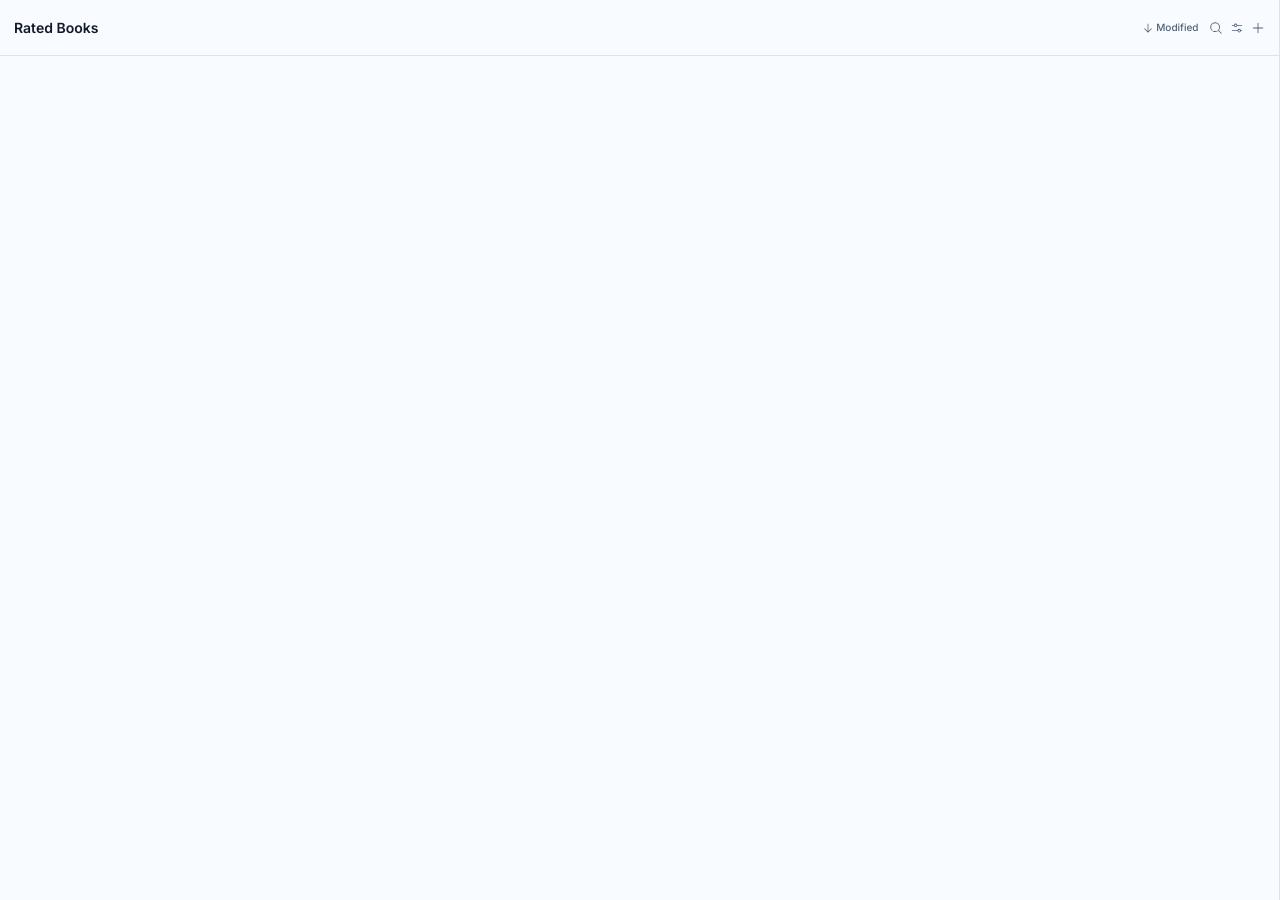
Test: NoteList sort controls › loads view sort properties from the current view results only
Click the button with test id "sort-button-__list__" at (1170, 28), box [1139,18,1202,37]
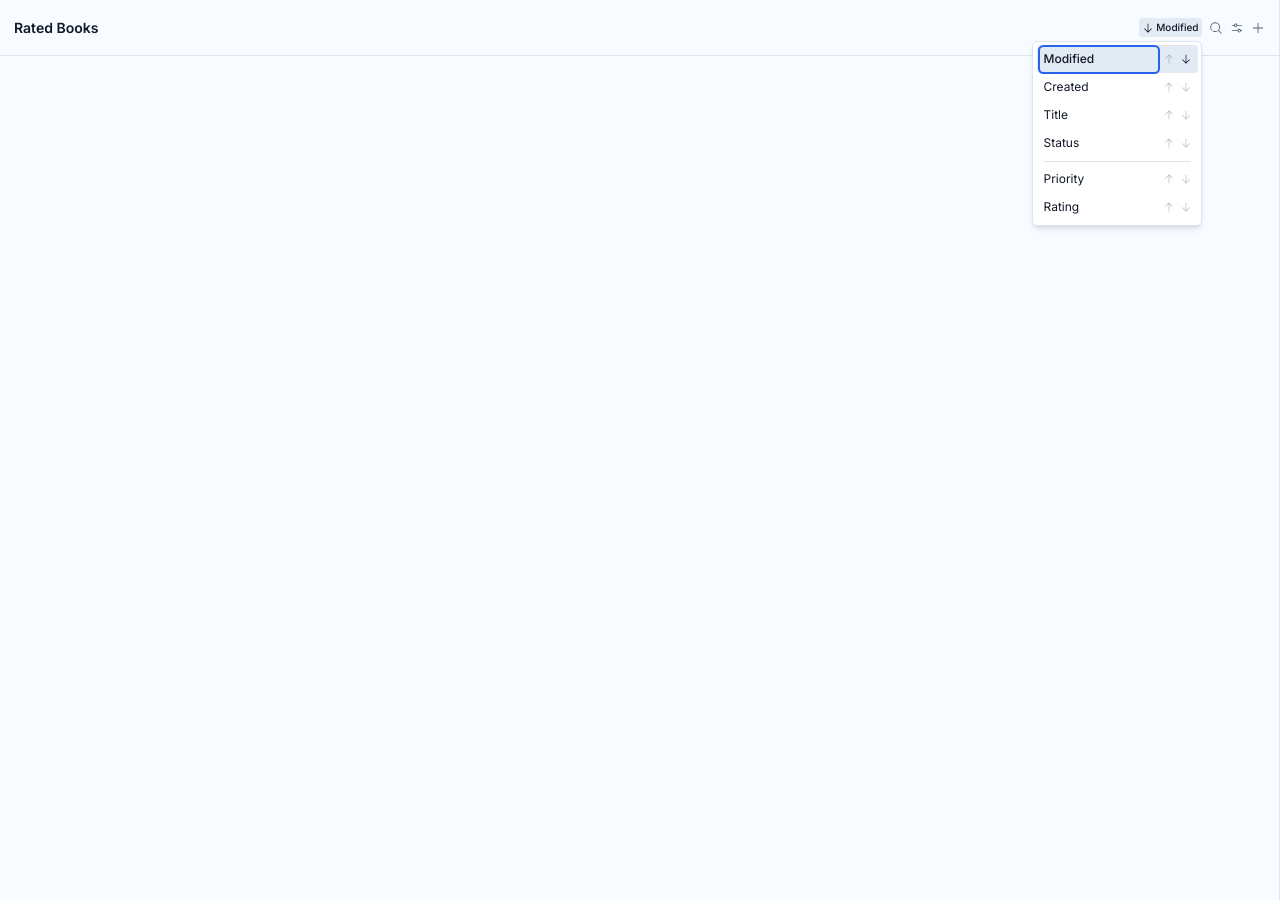
Expected: the menu item with test id "sort-option-property:Priority" is shown, [1040,167,1158,192]
Expected: the menu item with test id "sort-option-property:Rating" is shown, [1040,195,1158,220]
